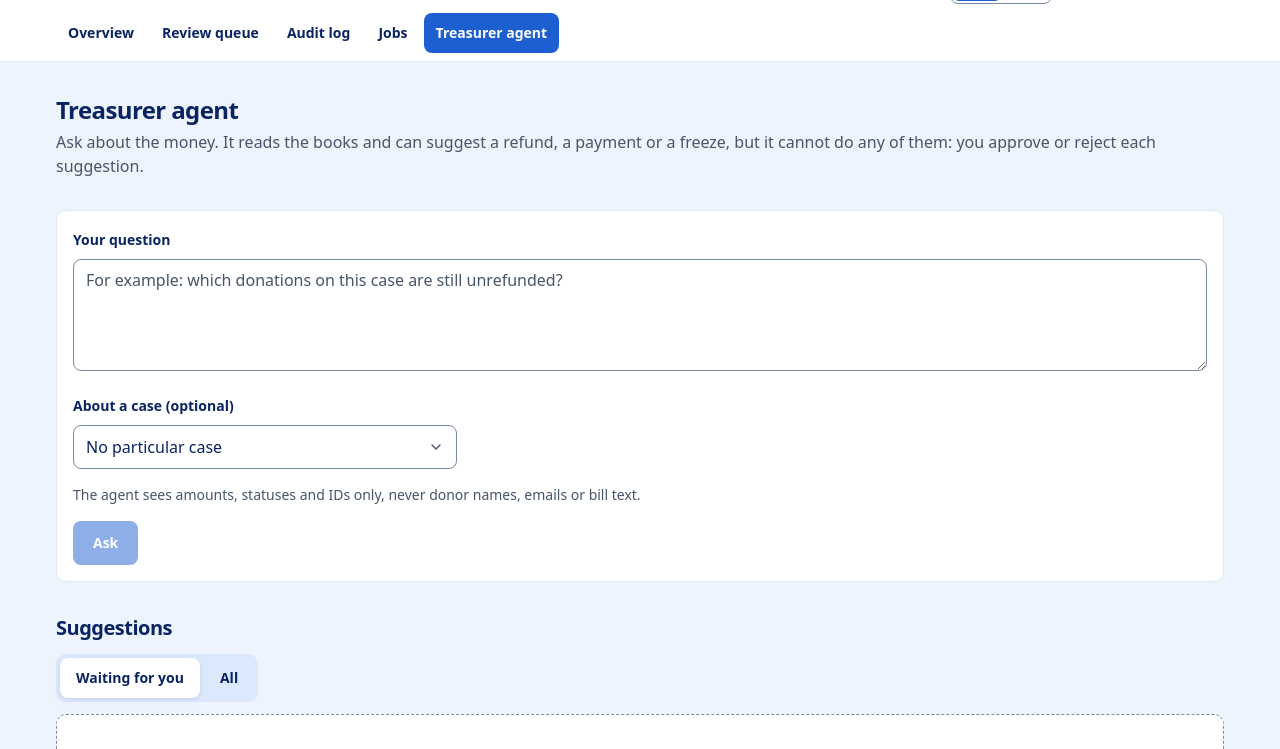
Test: treasurer agent › answers with the trace of what it looked at and its proposals, which wait for a person
Type "Which donations are unrefunded?" into the text box labelled "Your question" at (640,315), box x1=73 y1=259 x2=1207 y2=371
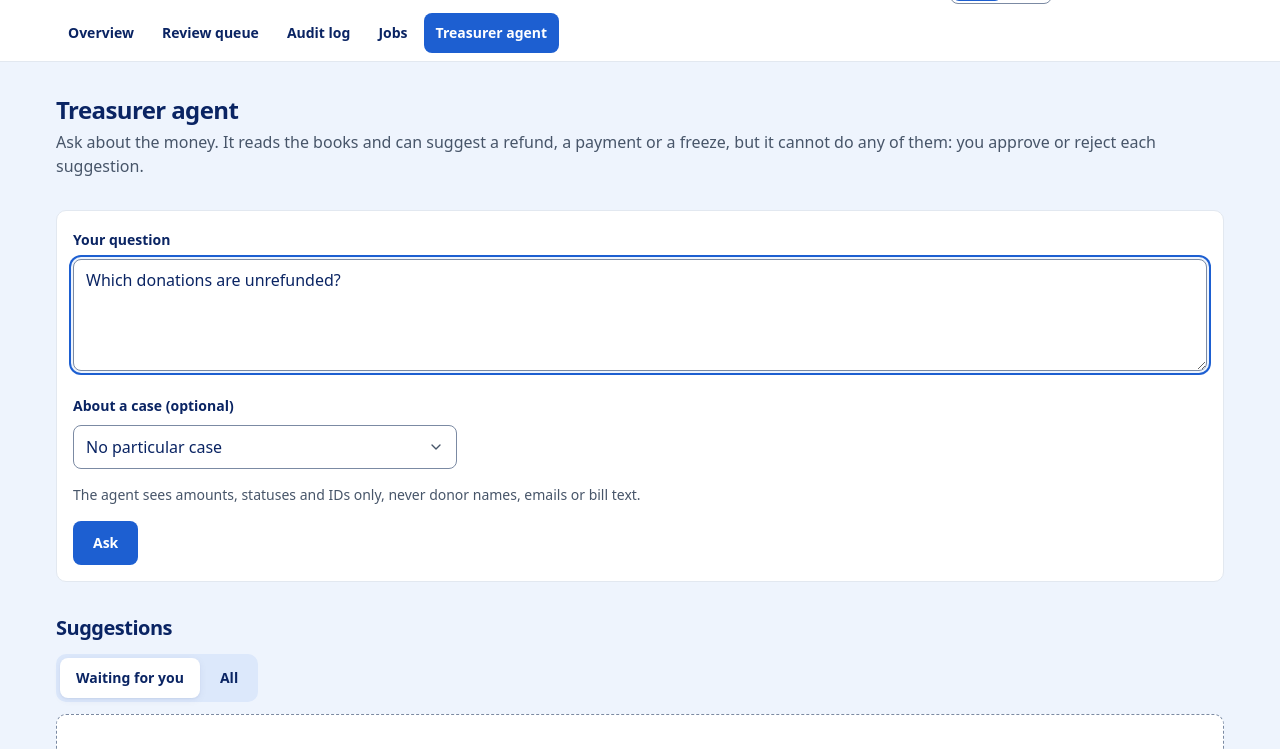
Click the button "Ask" at (106,543), box x1=73 y1=521 x2=138 y2=565
(page scrolled)
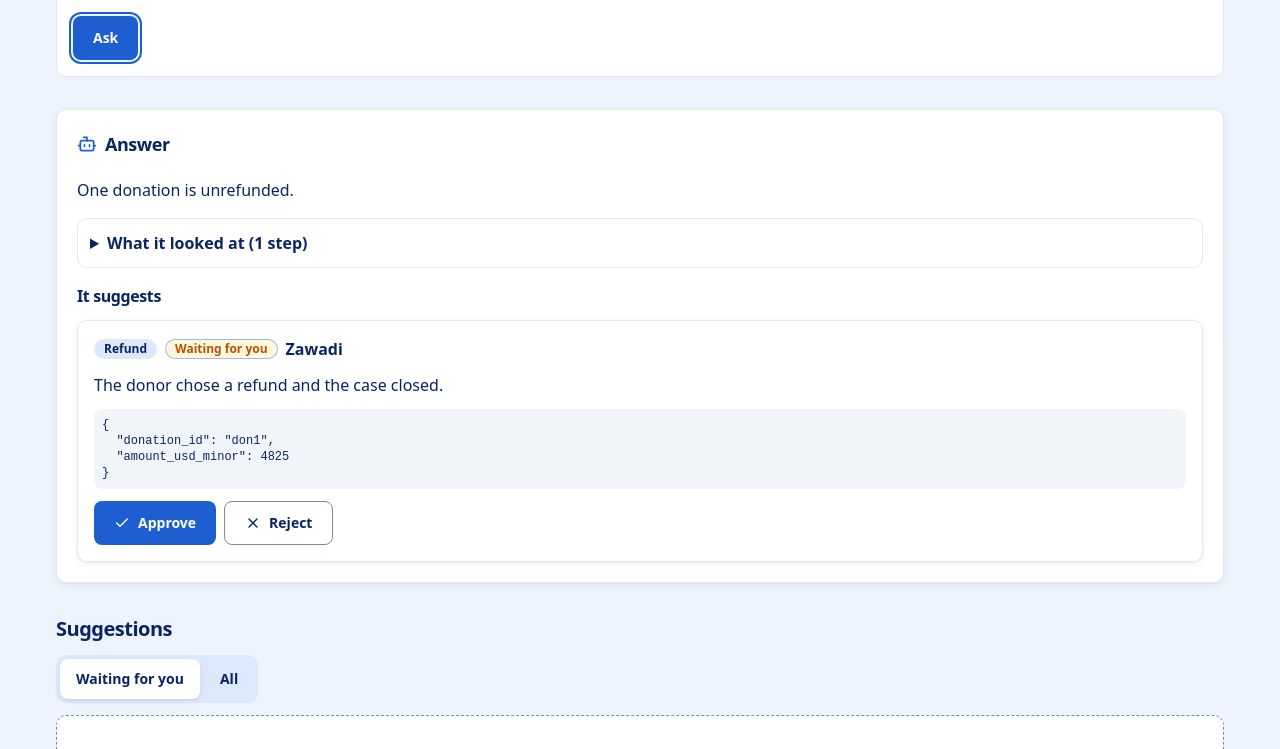
Expected: the text "One donation is unrefunded." is shown, x1=77 y1=179 x2=294 y2=201
Expected: the heading "What it looked at (1 step)" is shown, x1=107 y1=232 x2=307 y2=254
Expected: the text "Waiting for you" is shown, x1=165 y1=339 x2=278 y2=359
